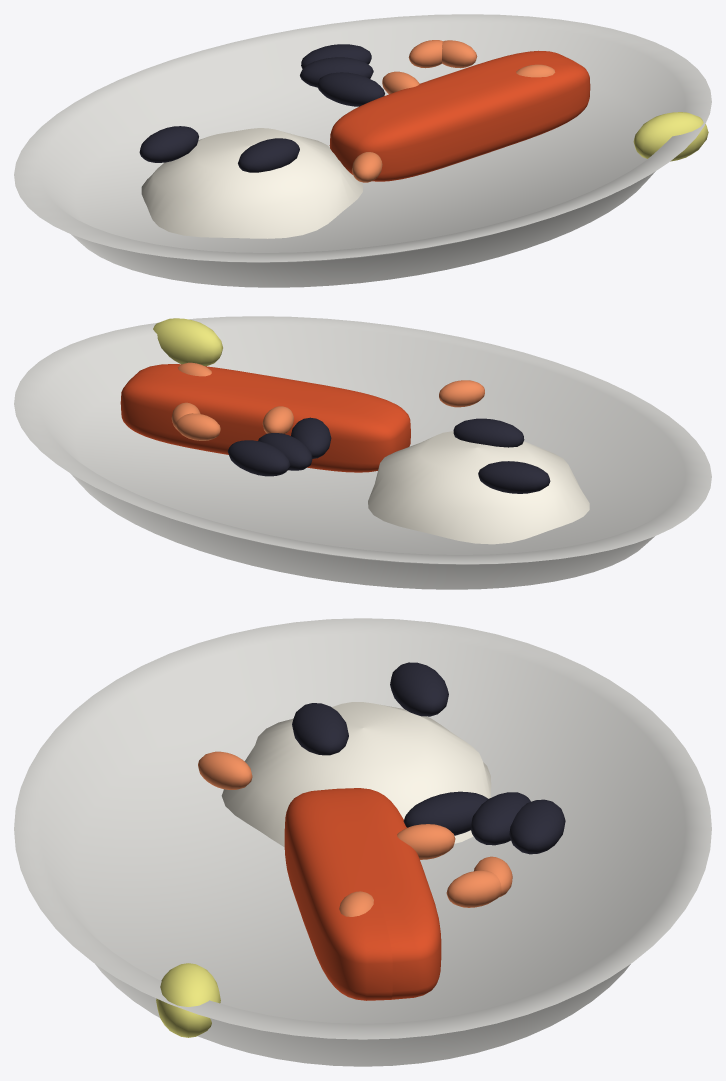
File: travessa-lagosta.glb
3 renders of one model, top to bottom at view 1: azimuth 30°, elevation 25°; view 2: azimuth 150°, elevation 25°; view 3: azimuth 270°, elevation 25°, orthographic. The views are drawn at different scales.
Visible parts, largest first — view 1: travessa-lagosta; view 2: travessa-lagosta; view 3: travessa-lagosta.
Boxes of the visible parts, left/top/right/bottom form: travessa-lagosta: left=14, top=14, right=711, bottom=287; travessa-lagosta: left=14, top=316, right=711, bottom=589; travessa-lagosta: left=14, top=618, right=711, bottom=1066.
Size of the model in its own units: 0.4 by 0.046 by 0.28.
